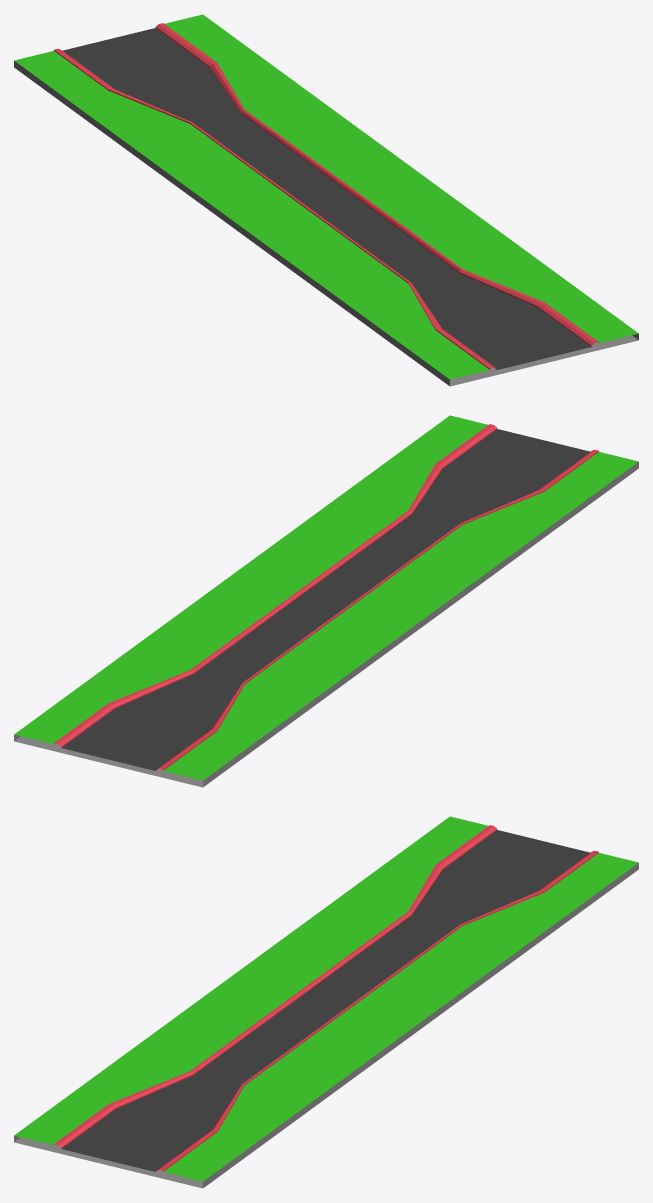
The model's file is narrow.fbx.
3 views of the same model, one above another, from view 1: azimuth 30°, elevation 25°; view 2: azimuth 150°, elevation 25°; view 3: azimuth 330°, elevation 25° (orthographic).
Parts seen in each view (by area): view 1: narrow; view 2: narrow; view 3: narrow.
Part boxes in pixels (x1,y1,x2,y2): narrow: (14,14,638,386); narrow: (14,415,638,787); narrow: (14,816,638,1188).
Size of the model in its own units: 2000 by 80.76 by 7991.
